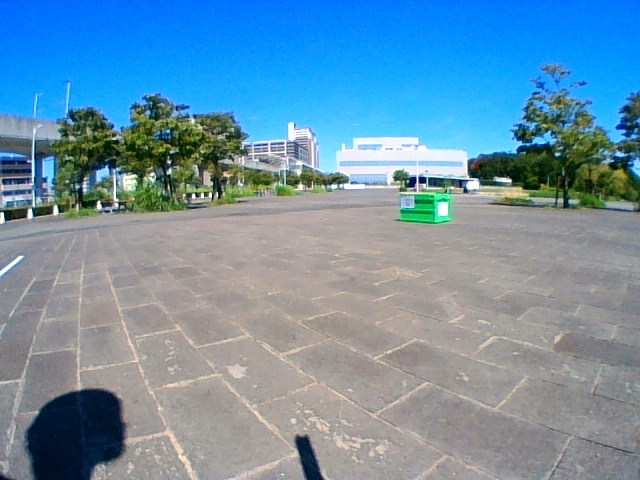green_box: (401, 192, 450, 223)
tag: (401, 196, 413, 208)
